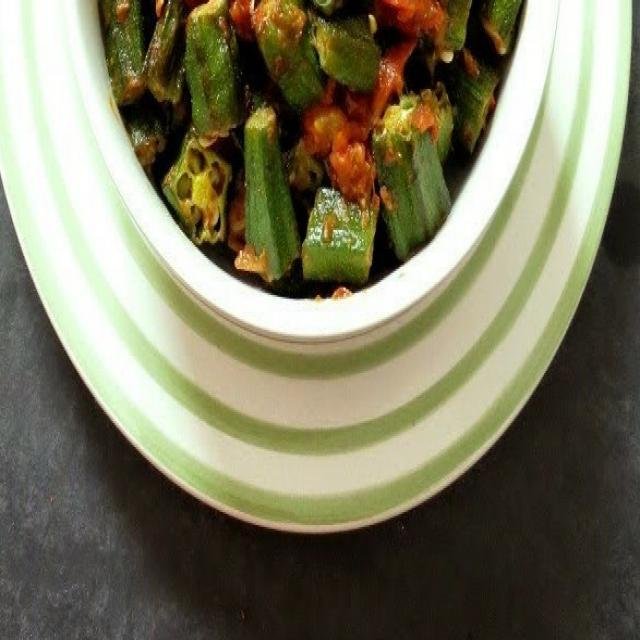BhindiMasala: (101, 1, 523, 300)
